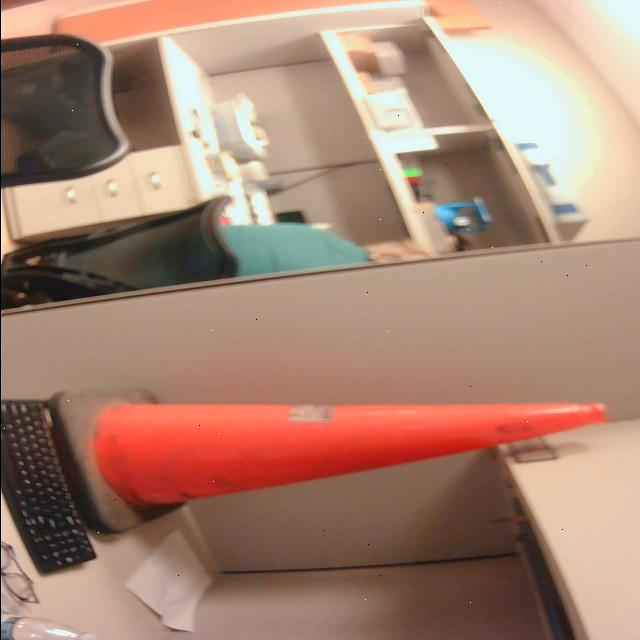traffic cone: (50, 386, 616, 544)
